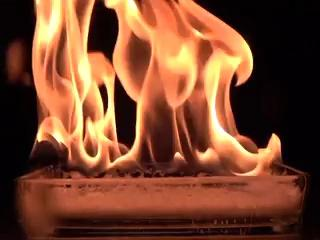Fire: (26, 2, 287, 178)
